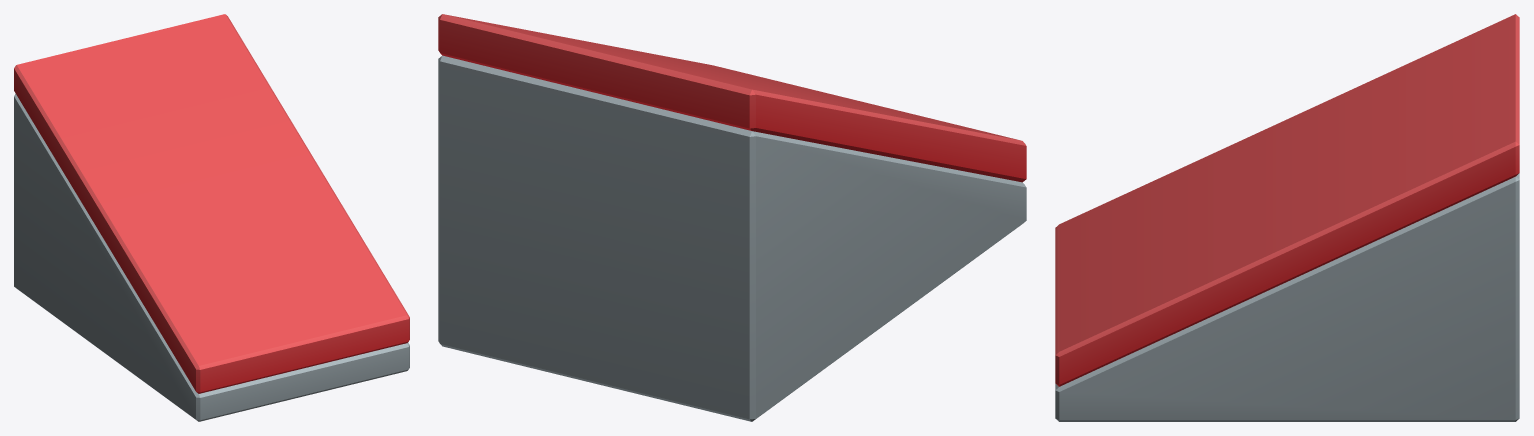
The model's file is kaykit_platform_slope_4x6x4_red.glb.
3 views of the same model, side by side, from view 1: azimuth 30°, elevation 25°; view 2: azimuth 150°, elevation 25°; view 3: azimuth 270°, elevation 25° (orthographic). The views are drawn at different scales.
Visible parts, largest first — view 1: platform_slope_4x6x4_red_visual; view 2: platform_slope_4x6x4_red_visual; view 3: platform_slope_4x6x4_red_visual.
Part boxes in pixels (bbox=[...]): platform_slope_4x6x4_red_visual: bbox=[14, 14, 409, 421]; platform_slope_4x6x4_red_visual: bbox=[438, 14, 1026, 421]; platform_slope_4x6x4_red_visual: bbox=[1055, 14, 1519, 421].
Size of what is drawn, in the model's own units: 4 by 4 by 6.
Materials: 1 (1 with a texture image).
